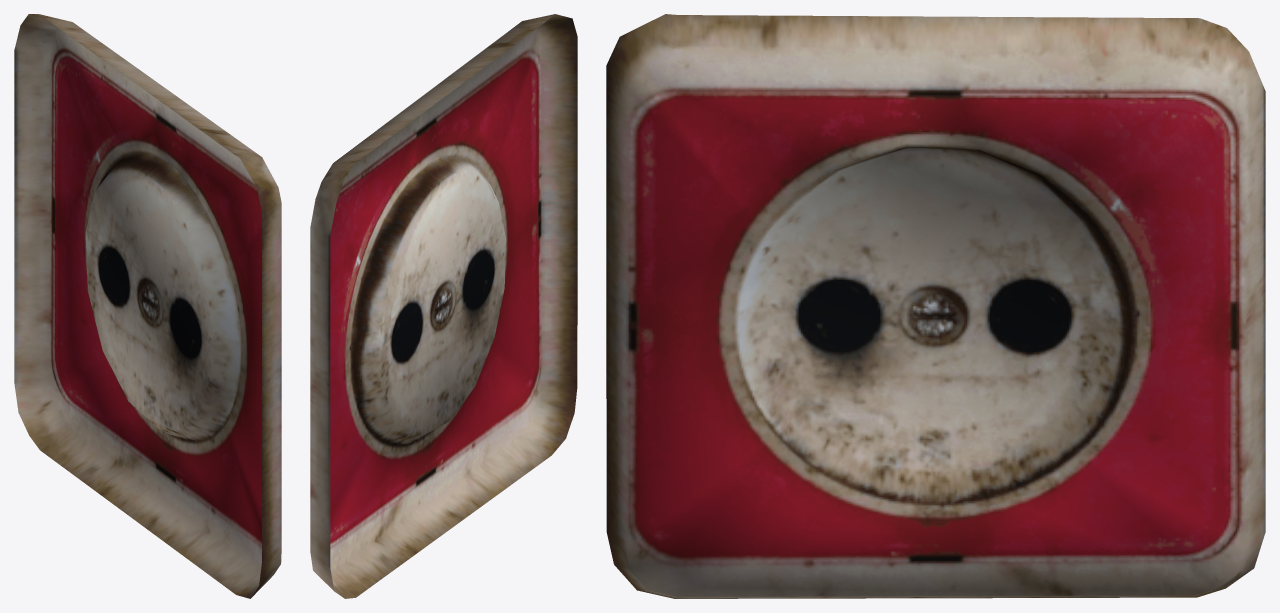
Rendered from Electrical_Socket_03.fbx.
The picture shows the model from 3 angles, left to right: view 1: azimuth 30°, elevation 25°; view 2: azimuth 150°, elevation 25°; view 3: azimuth 270°, elevation 25°; orthographic projection. The views are drawn at different scales.
Parts seen in each view (by area): view 1: Electrical_Socket_03; view 2: Electrical_Socket_03; view 3: Electrical_Socket_03.
Part boxes in pixels (box(x1,y1,x2,y2)): Electrical_Socket_03: box(14, 14, 281, 598); Electrical_Socket_03: box(310, 14, 577, 598); Electrical_Socket_03: box(606, 14, 1265, 598).
Bounding box in the file's own units: 0.6836 × 10.53 × 10.31.
Materials: 1 (1 with a texture image).
